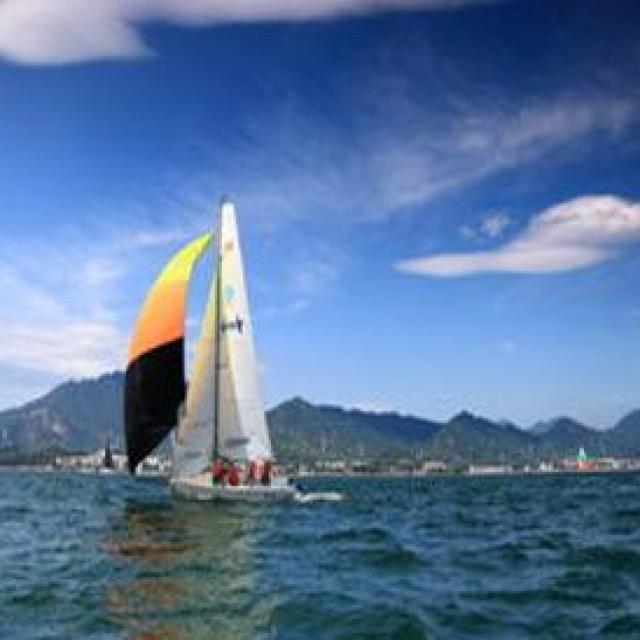sailboat: (121, 180, 297, 506)
